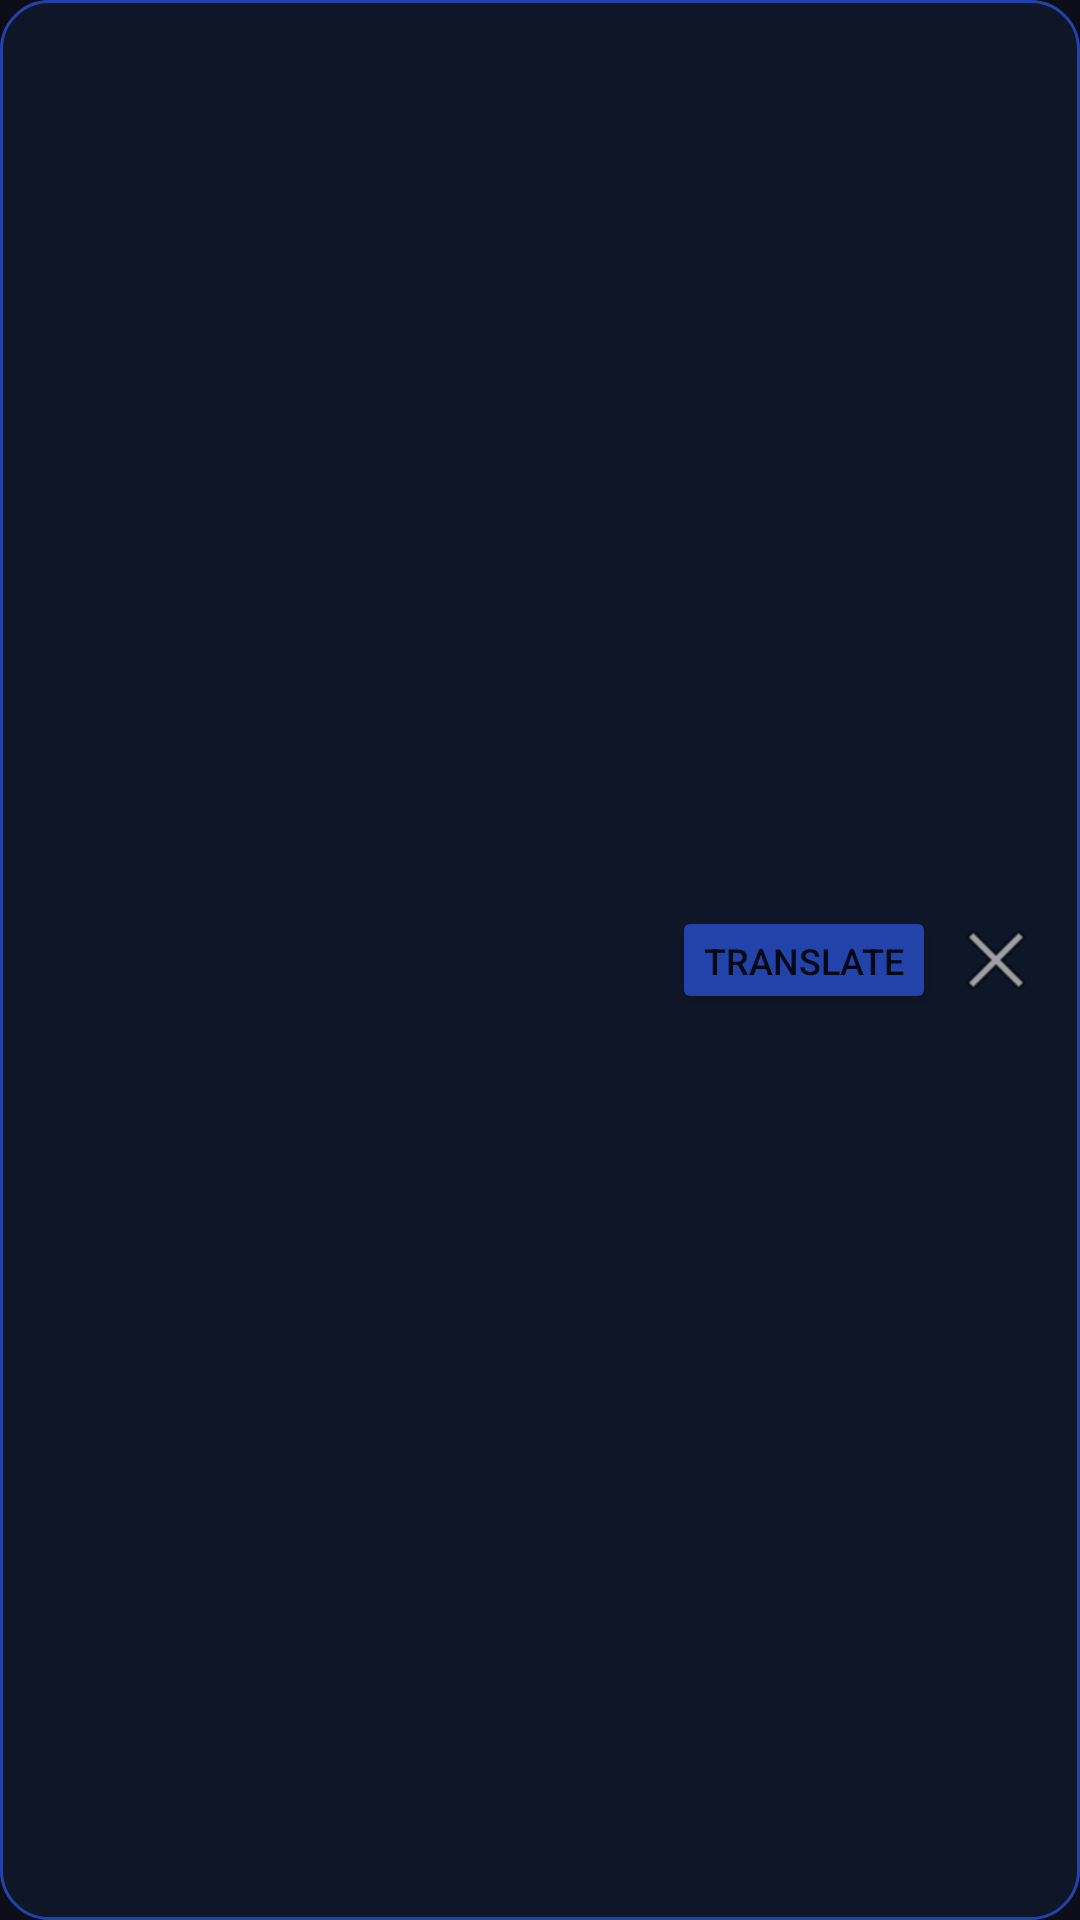

Point at icon controls on the screen. Image size 1080 x 1920, points as point (x, y).
Close captions: point (996, 960)
